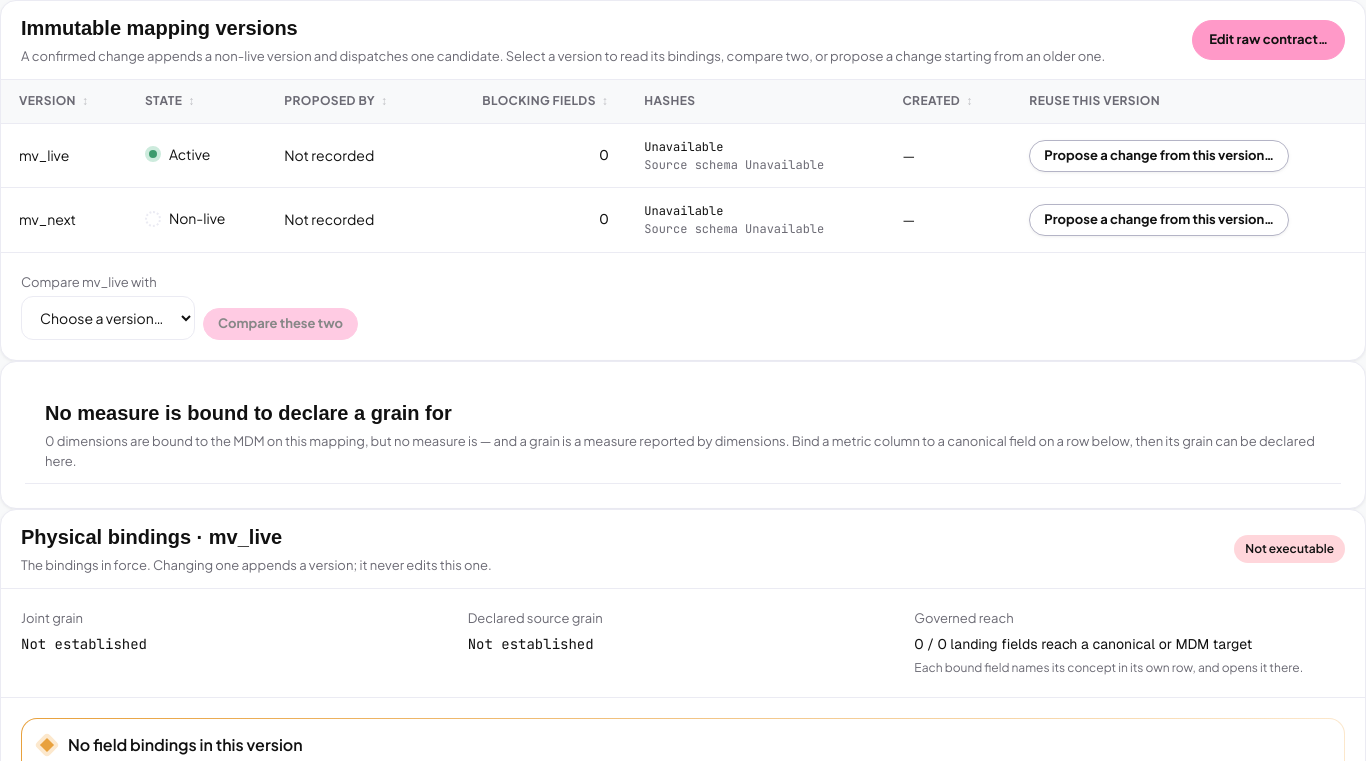
it: Mapping tab — governed publication › still offers the raw contract change, and it is the ONLY textarea left
Click the button "Edit raw contract…".
click(1269, 40)  # box [1192,20,1345,60]
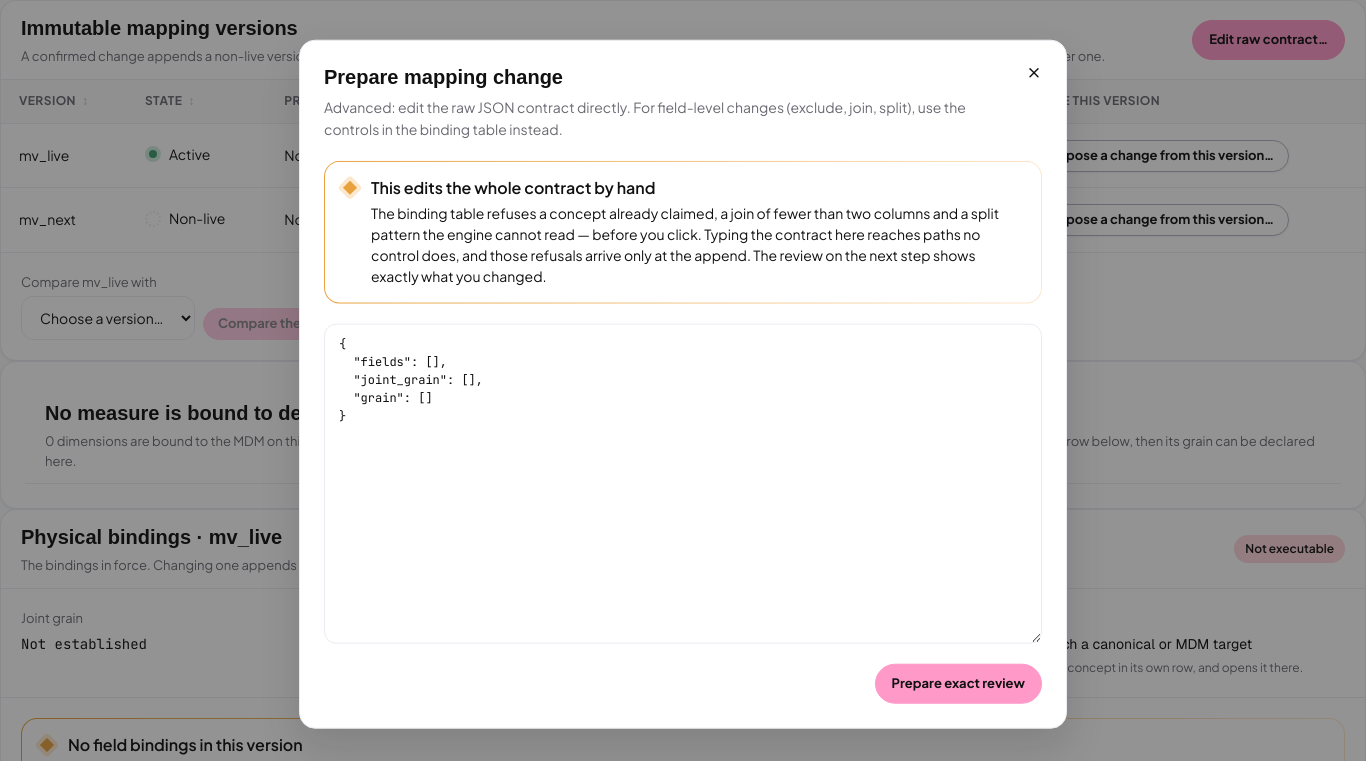
Expected: the text box named "Proposed mapping contract" is shown, [324,323,1042,643]
